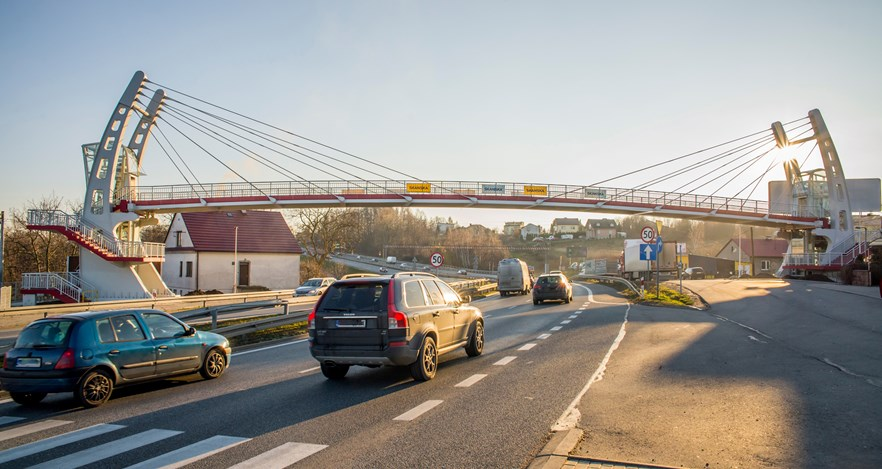bridge: (80, 71, 845, 229)
